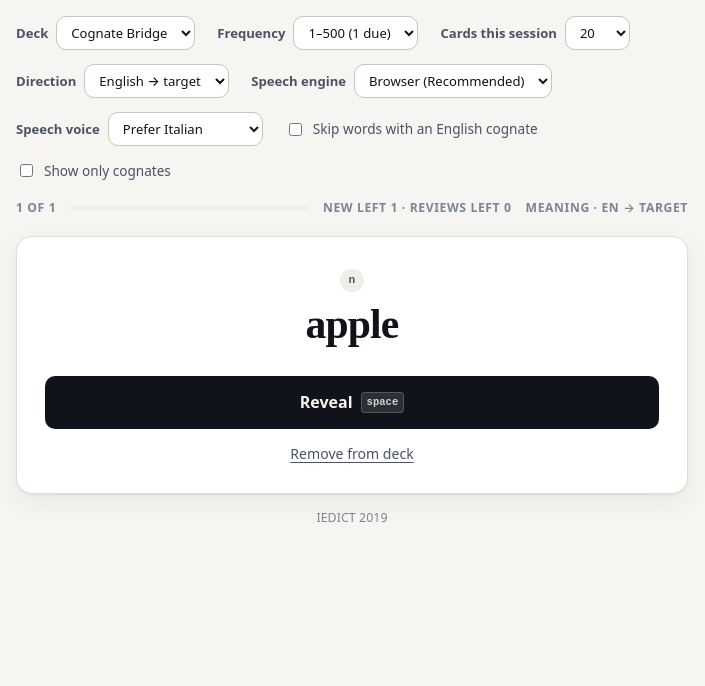
Test case: StudyPage › hides the answer until the card is revealed
Check: the heading "apple" is shown, box [306,300,398,350]
Check: the heading "appel" is not shown
Click the button "Reveal space".
click(352, 403)  # box [45,376,659,429]
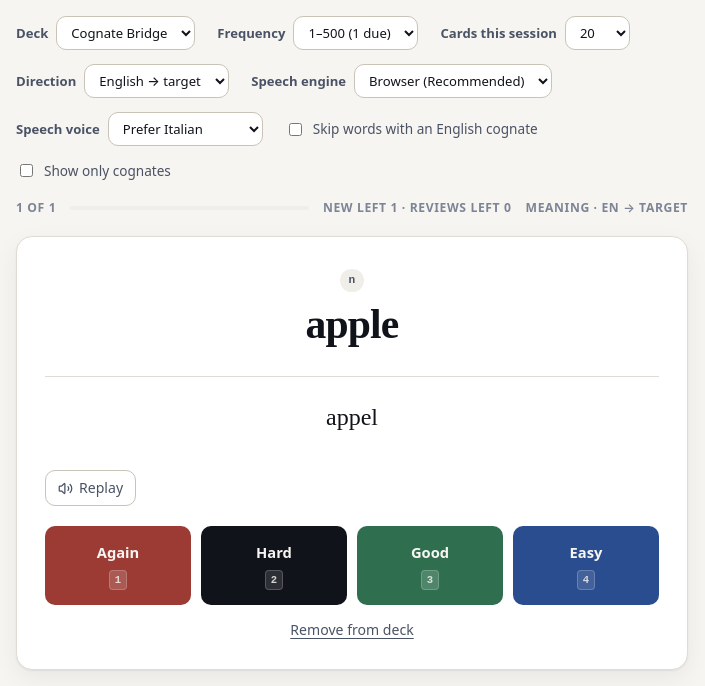
Check: the text "appel" is shown, box [326,404,378,430]
